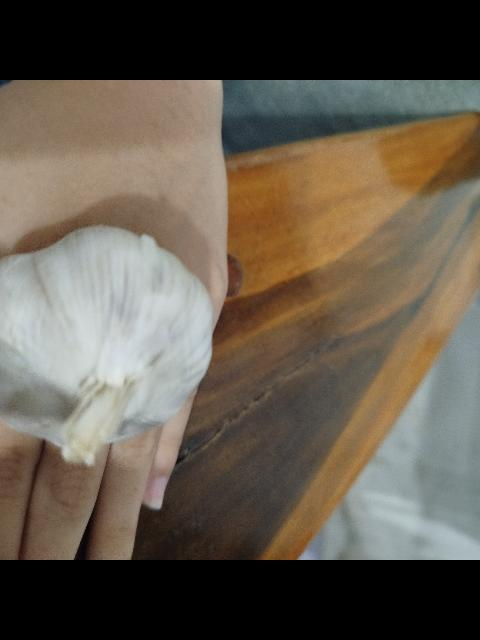garlic: (0, 223, 214, 466)
